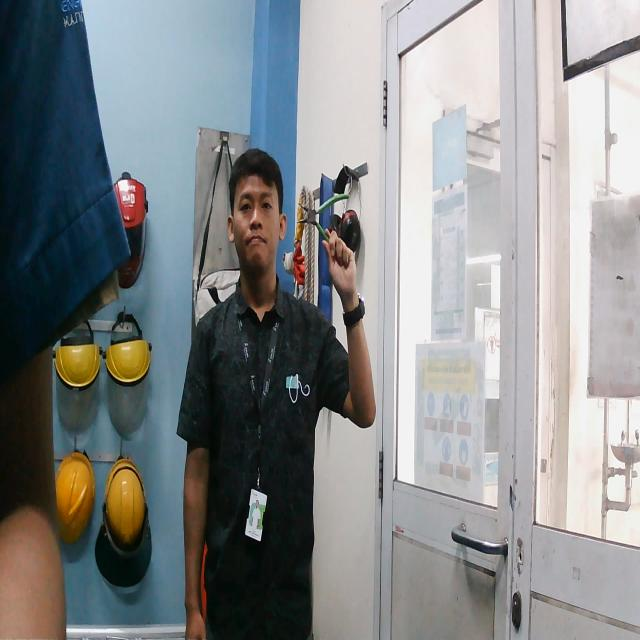tang_scun_hidrolik: (293, 190, 358, 259)
